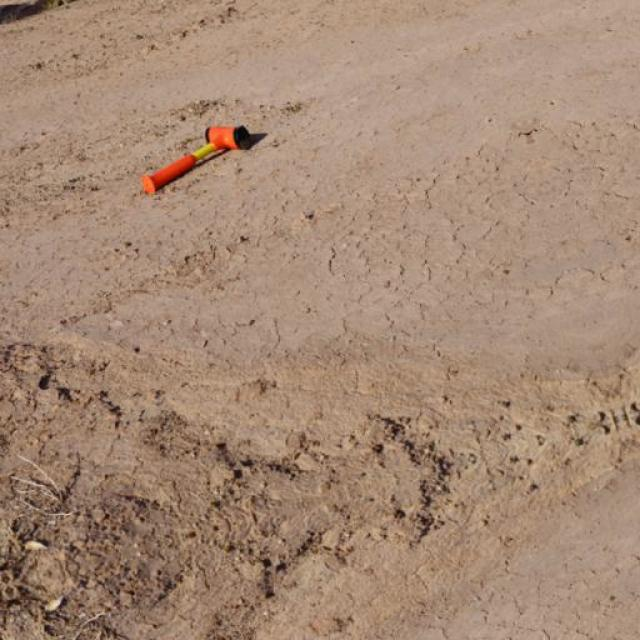mallet: (141, 123, 269, 195)
